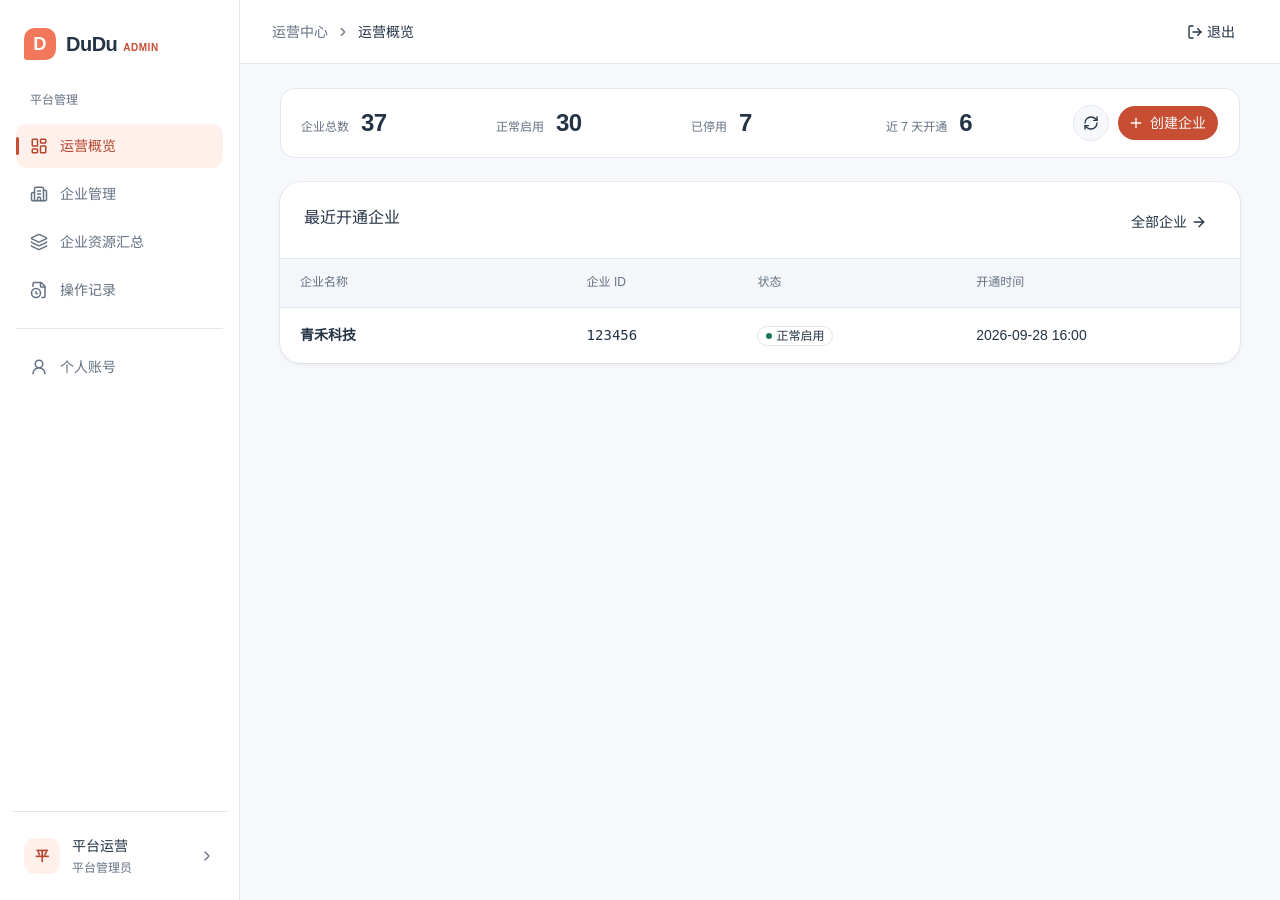
Test: 概览显示真实返回统计，创建按钮打开开通表单
The width and height of the screenshot is (1280, 900).
Expected: the text "37" is shown, [361,107,386,139]
Expected: the text "30" is shown, [556,107,582,139]
Click the button "创建企业" at (1168, 123), box [1117,105,1219,141]
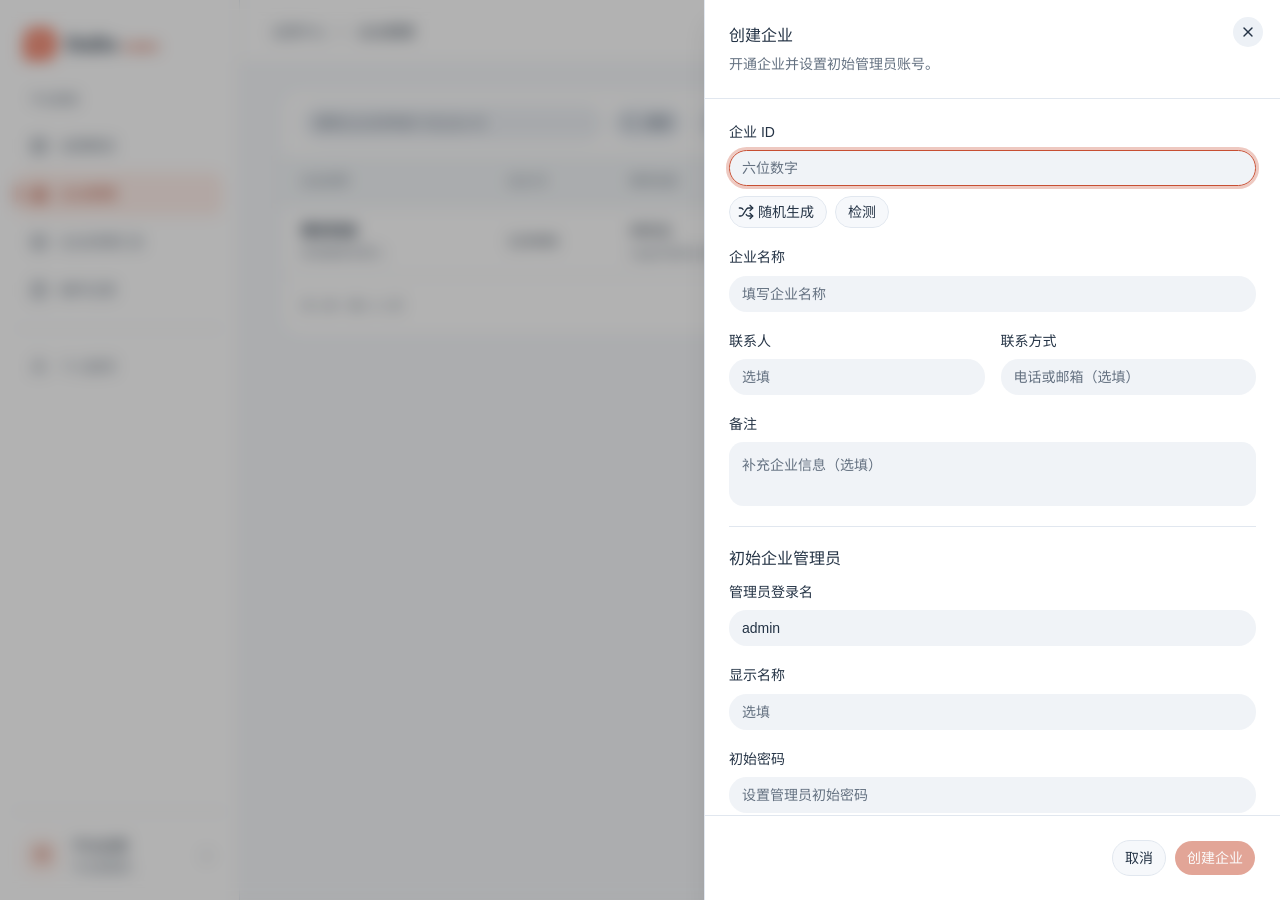
Result: the dialog "创建企业" is shown at [704,0,1279,899]
